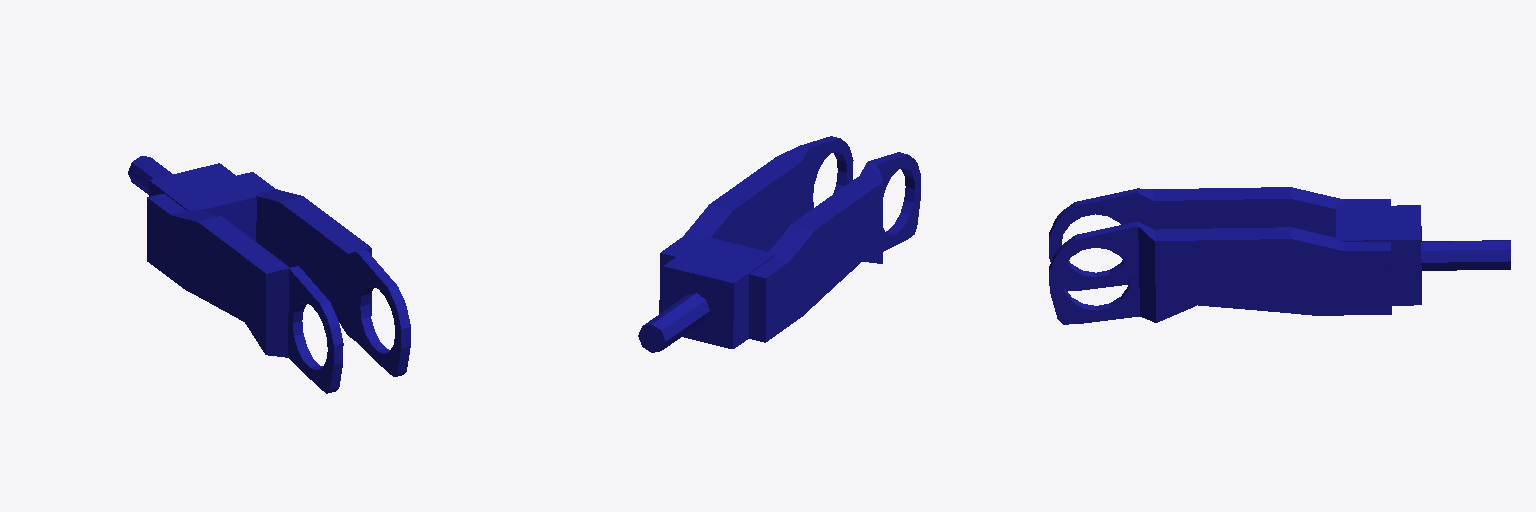
The picture shows the model from 3 angles: view 1: azimuth 30°, elevation 25°; view 2: azimuth 150°, elevation 25°; view 3: azimuth 270°, elevation 25°; orthographic projection.
Parts seen in each view (by area): view 1: R_HR.3_ShapeIndexedFaceS.050, R_HR.2_ShapeIndexedFaceS.051, R_HR.1_ShapeIndexedFaceS.052; view 2: R_HR.3_ShapeIndexedFaceS.050, R_HR.2_ShapeIndexedFaceS.051, R_HR.1_ShapeIndexedFaceS.052; view 3: R_HR.2_ShapeIndexedFaceS.051, R_HR.3_ShapeIndexedFaceS.050, R_HR.1_ShapeIndexedFaceS.052.
Boxes of the visible parts, box(x1,y1,x2,y2) form: R_HR.3_ShapeIndexedFaceS.050: box(147, 194, 343, 393); R_HR.2_ShapeIndexedFaceS.051: box(237, 172, 410, 376); R_HR.1_ShapeIndexedFaceS.052: box(128, 156, 260, 241); R_HR.3_ShapeIndexedFaceS.050: box(749, 152, 920, 342); R_HR.2_ShapeIndexedFaceS.051: box(659, 136, 853, 313); R_HR.1_ShapeIndexedFaceS.052: box(638, 238, 774, 352); R_HR.2_ShapeIndexedFaceS.051: box(1049, 221, 1391, 324); R_HR.3_ShapeIndexedFaceS.050: box(1049, 187, 1390, 290); R_HR.1_ShapeIndexedFaceS.052: box(1336, 205, 1510, 305).
Size of the model in its own units: 2.59 by 2.28 by 9.68.